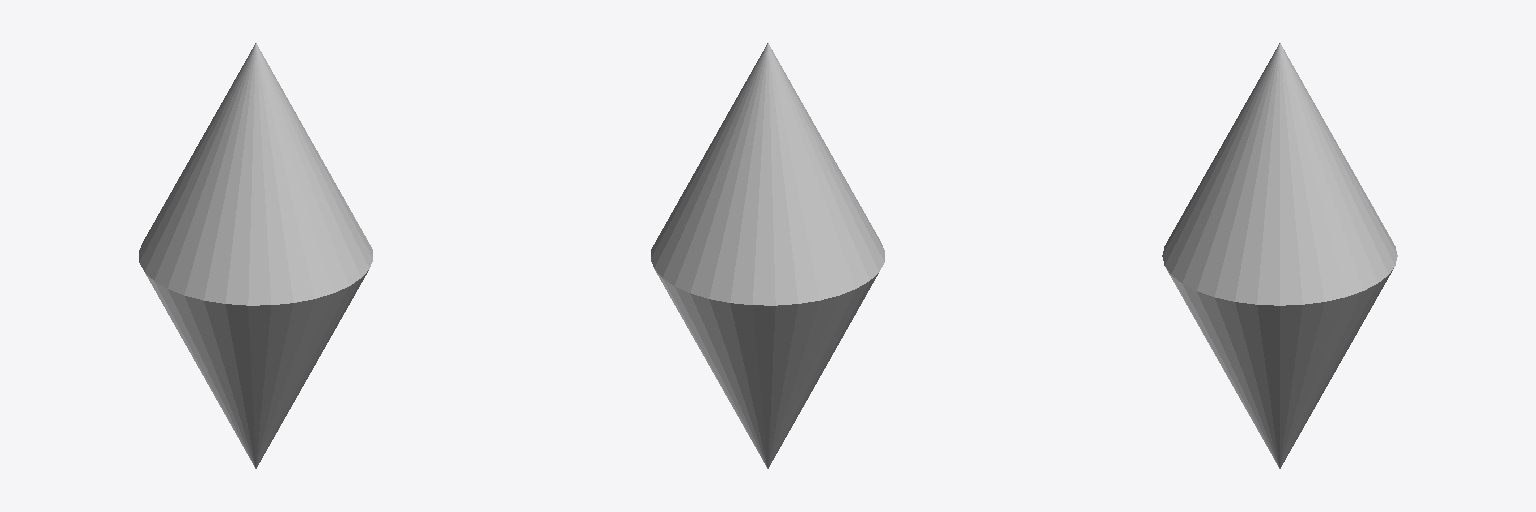
File: core.obj
3 renders of one model, left to right at view 1: azimuth 30°, elevation 25°; view 2: azimuth 150°, elevation 25°; view 3: azimuth 270°, elevation 25°, orthographic.
Visible parts, largest first — view 1: 円錐; view 2: 円錐; view 3: 円錐.
Boxes of the visible parts, x1,y1,x2,y2 form: 円錐: [139, 43, 372, 468]; 円錐: [651, 43, 884, 468]; 円錐: [1162, 43, 1397, 468].
Bounding box in the file's own units: 2 × 4 × 2.